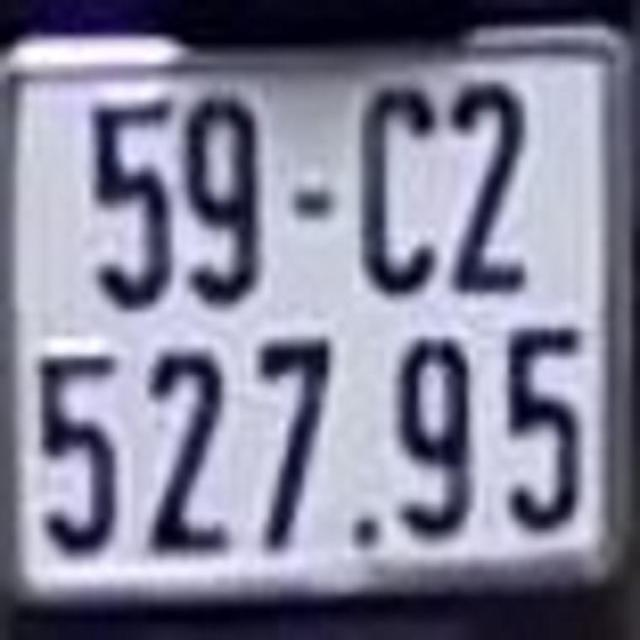2: (138, 332, 239, 559), (442, 74, 532, 297)
5: (497, 310, 590, 540), (85, 87, 174, 316), (32, 336, 122, 549)
7: (254, 324, 340, 550)
9: (180, 90, 273, 321), (385, 320, 481, 538)
C: (351, 82, 441, 297)
